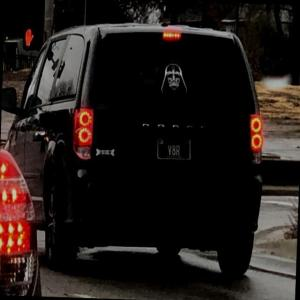Plate: (156, 136, 191, 160)
